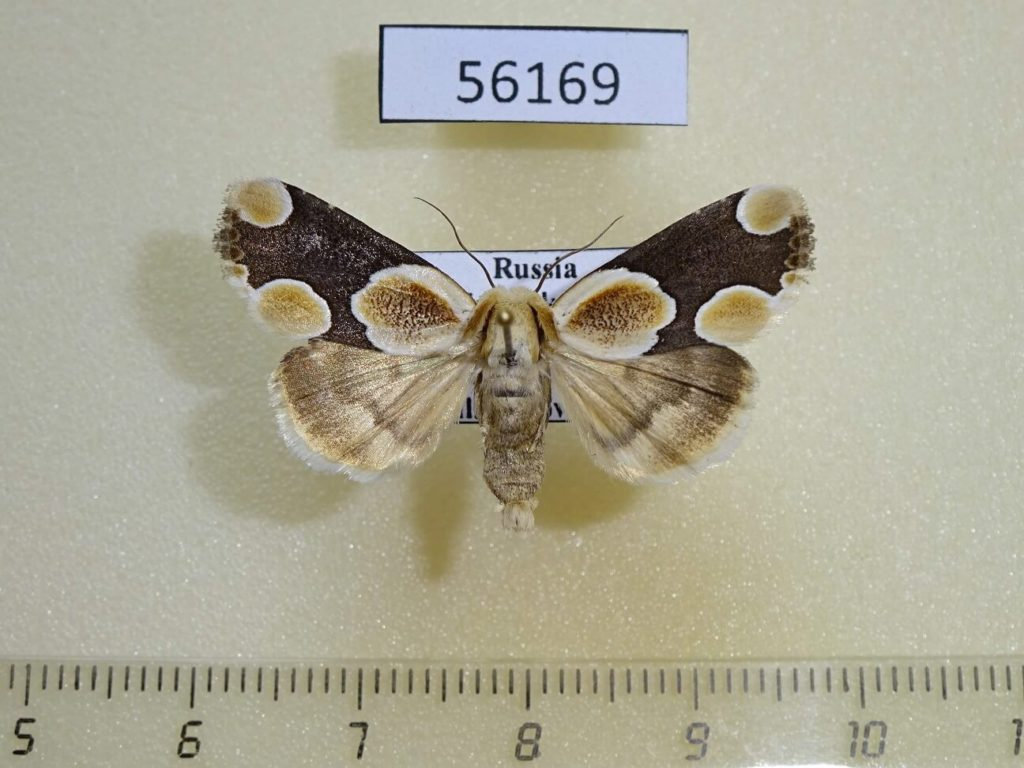Noctuidae: (211, 183, 818, 534)
